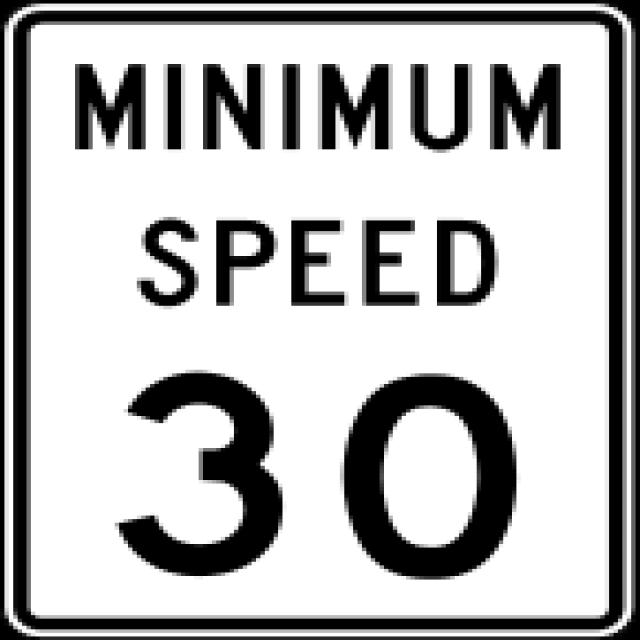Speed Limit -30-: (96, 334, 564, 600)
